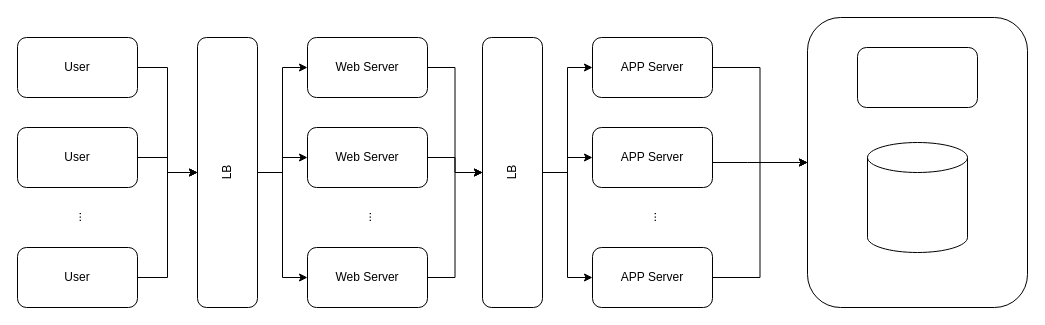
The diagram is 1045 pixels wide and 325 high, and some of its shapes have lost their labels. The centre of each missing label's shape, as x and y in pixels:
URL Cache: point 917,77
URL DB: point 917,197
